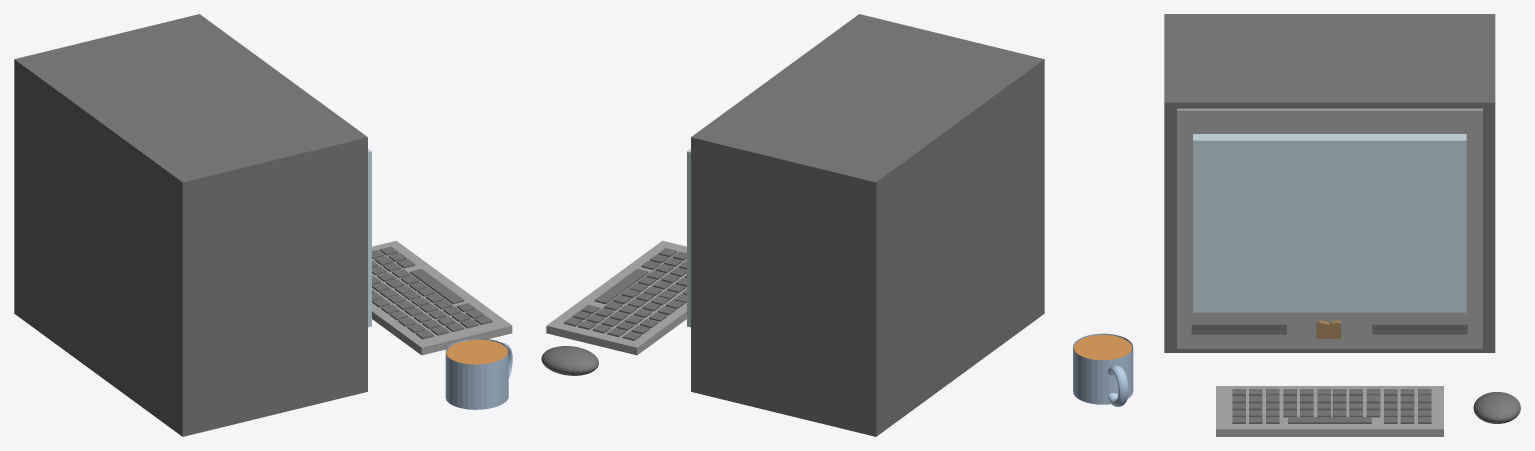
3 renders of one model, left to right at view 1: azimuth 30°, elevation 25°; view 2: azimuth 150°, elevation 25°; view 3: azimuth 270°, elevation 25°, orthographic.
Visible parts, largest first — view 1: Cube.005, Cube.006, Cylinder, Cylinder.001, Cube.001, Cube.007; view 2: Cube.005, Cube.006, Sphere, Cube.001, Cube.007; view 3: Cube.001, Cube.005, Cube, Cube.006, Cylinder, Sphere, Cylinder.001, Cube.003, Cube.002, Torus, Cube.007, Cube.004.
Part boxes in pixels (x1,y1,x2,y2): Cube.005: [14, 14, 367, 436]; Cube.006: [372, 240, 512, 355]; Cylinder: [445, 338, 508, 409]; Cylinder.001: [446, 339, 507, 364]; Cube.001: [368, 149, 371, 327]; Cube.007: [410, 269, 464, 304]; Cube.005: [691, 14, 1044, 436]; Cube.006: [546, 240, 686, 355]; Sphere: [541, 346, 598, 375]; Cube.001: [687, 149, 690, 327]; Cube.007: [594, 269, 648, 304]; Cube.001: [1193, 134, 1466, 312]; Cube.005: [1164, 14, 1495, 352]; Cube: [1177, 108, 1482, 348]; Cube.006: [1216, 386, 1443, 436]; Cylinder: [1073, 333, 1133, 404]; Sphere: [1473, 392, 1520, 423]; Cylinder.001: [1074, 335, 1131, 360]; Cube.003: [1372, 323, 1467, 334]; Cube.002: [1191, 323, 1286, 334]; Torus: [1108, 365, 1128, 406]; Cube.007: [1288, 417, 1371, 423]; Cube.004: [1316, 320, 1340, 338].
Size of the model in its own units: 264 by 186 by 293.
